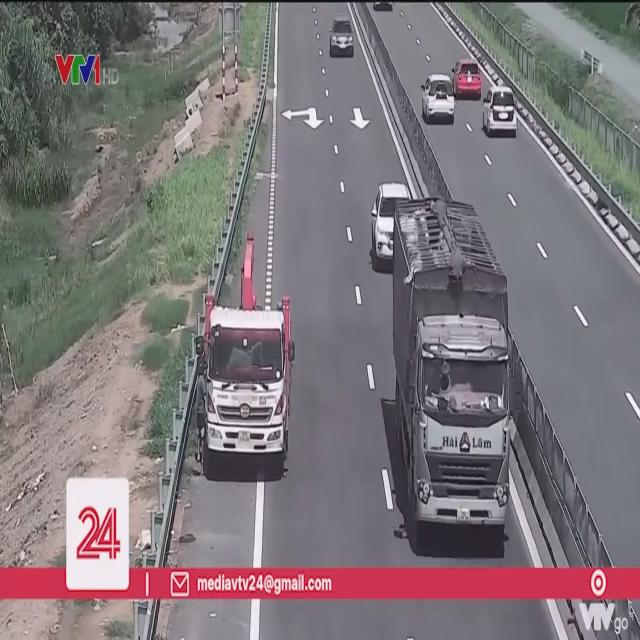car: (369, 182, 415, 271), (481, 85, 518, 140), (421, 75, 454, 124), (328, 14, 356, 60), (453, 61, 482, 100)
truck: (392, 196, 516, 550), (203, 295, 292, 479)
